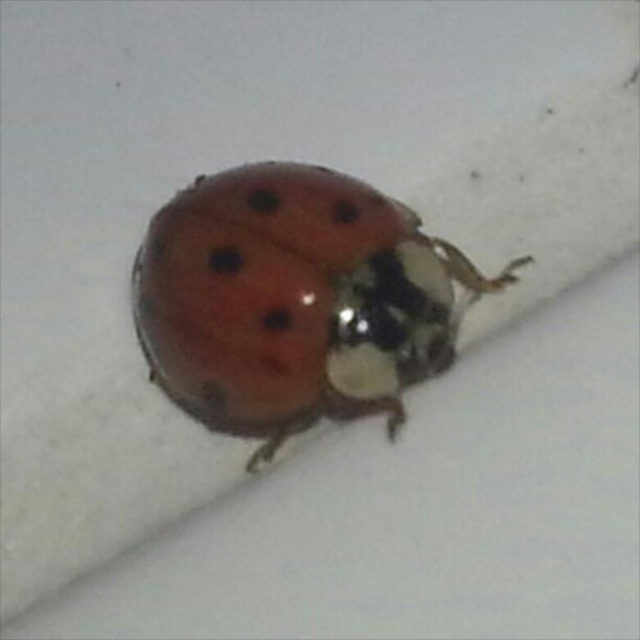Ladybug: (121, 162, 529, 468)
